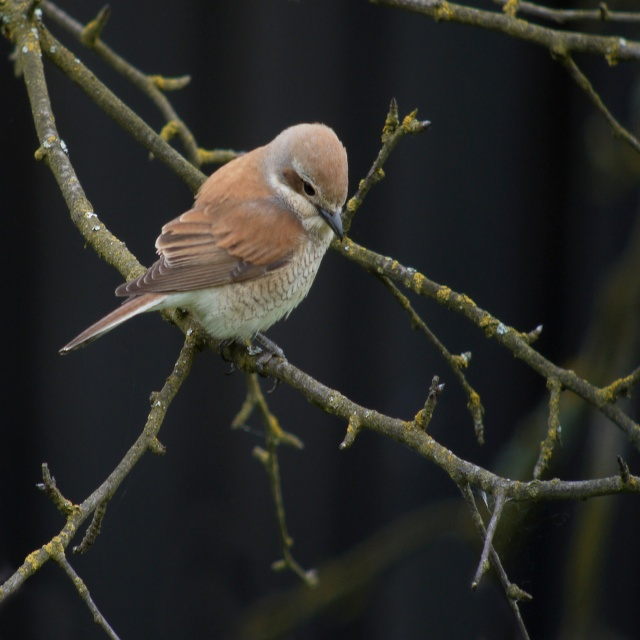Sparrow: (59, 121, 348, 369)
